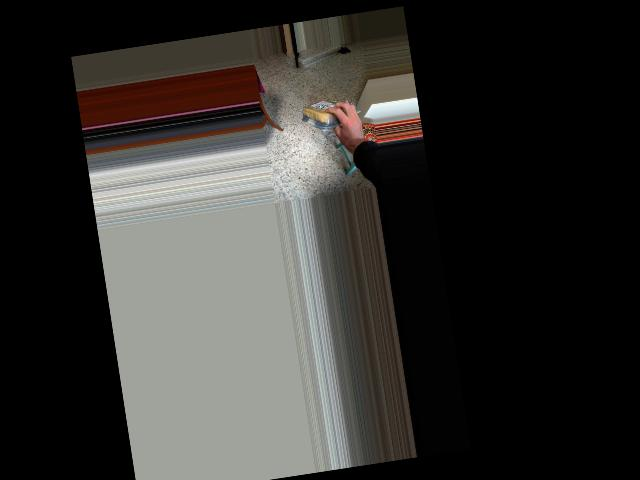cheese: (297, 93, 355, 134)
